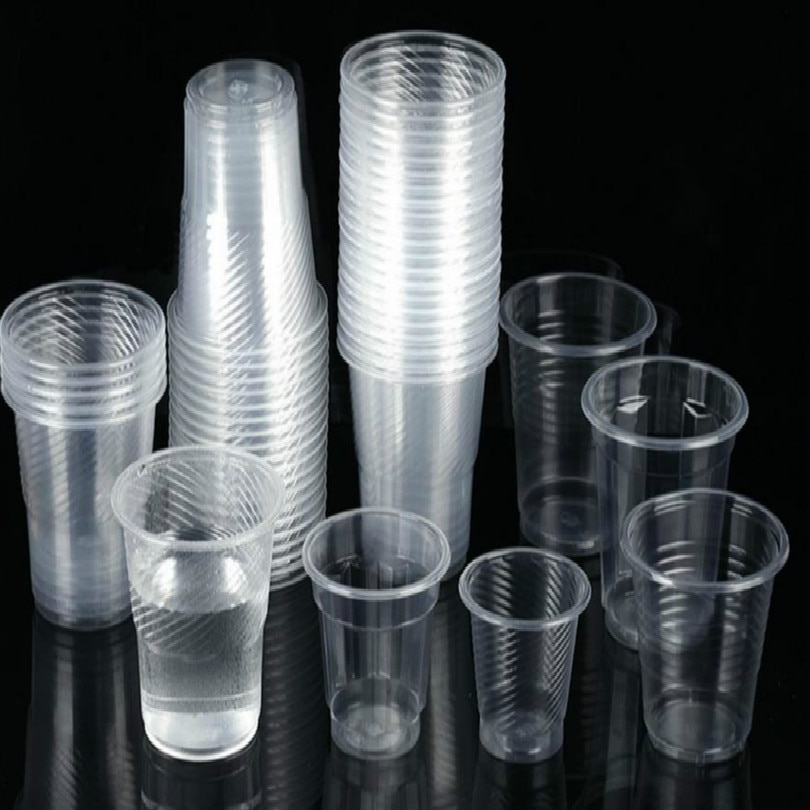plastic_bottle: (297, 503, 452, 767), (454, 544, 596, 767)
